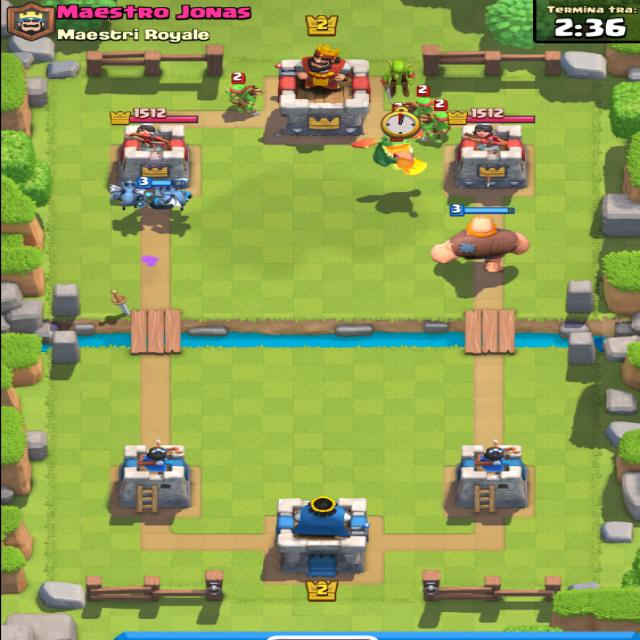Enemy-Goblin: (373, 58, 418, 96), (408, 87, 440, 119)
Enemy-SpearGoblin: (225, 70, 262, 119), (419, 99, 453, 140)
Player-Giant: (432, 207, 542, 271)
Player-Minion: (106, 182, 143, 212), (163, 185, 195, 214)
